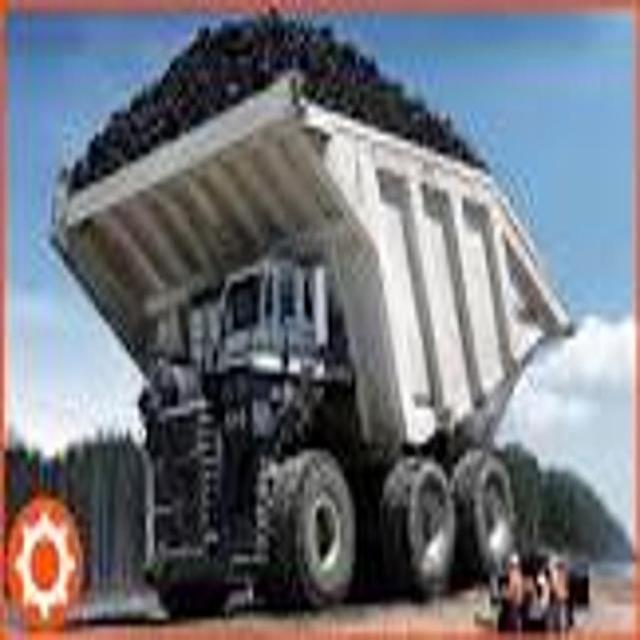dump_truck: (51, 0, 574, 613)
